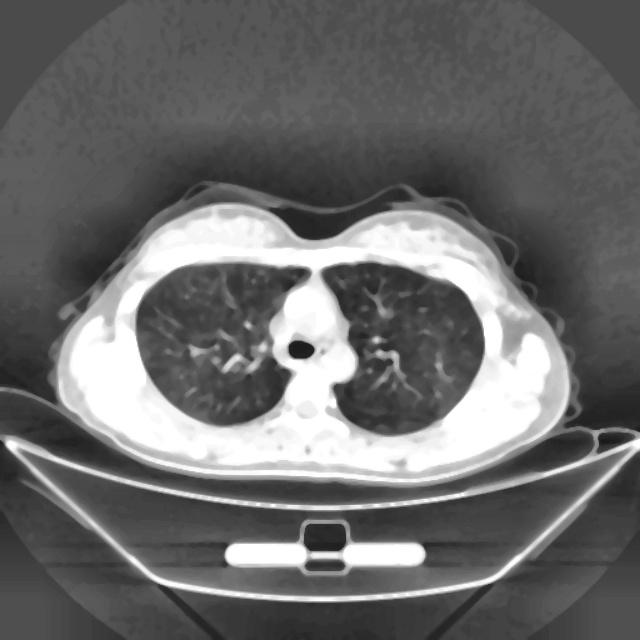covid: (48, 179, 573, 489)
